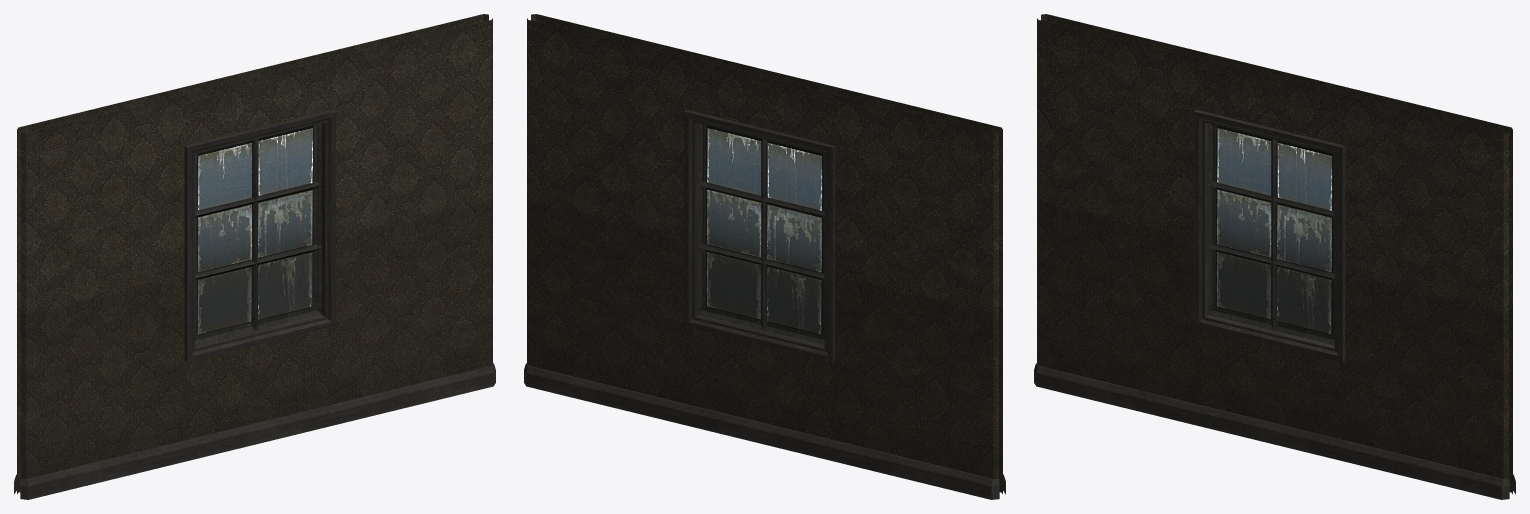
File: window_2_2_single.fbx
The picture shows the model from 3 angles, left to right: view 1: azimuth 30°, elevation 25°; view 2: azimuth 150°, elevation 25°; view 3: azimuth 330°, elevation 25°; orthographic projection.
Parts seen in each view (by area): view 1: window_2_2_single; view 2: window_2_2_single; view 3: window_2_2_single.
Part boxes in pixels (x1=…): window_2_2_single: x1=14, y1=14, x2=495, y2=499; window_2_2_single: x1=524, y1=14, x2=1005, y2=499; window_2_2_single: x1=1034, y1=14, x2=1515, y2=499.
Size of the model in its own units: 4.09 by 0.2 by 3.
